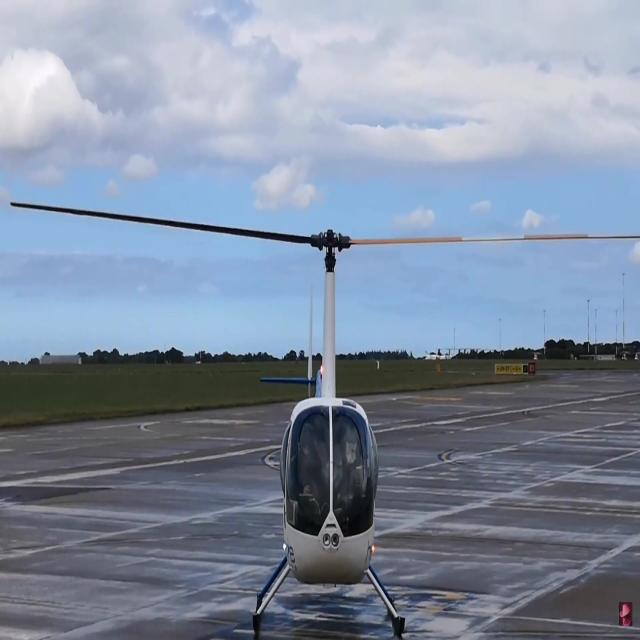CIV_HELO: (249, 227, 409, 640)
